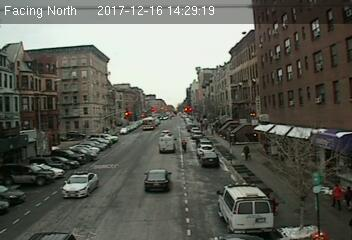bicycle: (181, 139, 186, 153)
car: (142, 169, 171, 191), (198, 152, 219, 168)
police: (215, 181, 274, 231), (60, 171, 100, 200)
truck: (158, 134, 175, 153)
